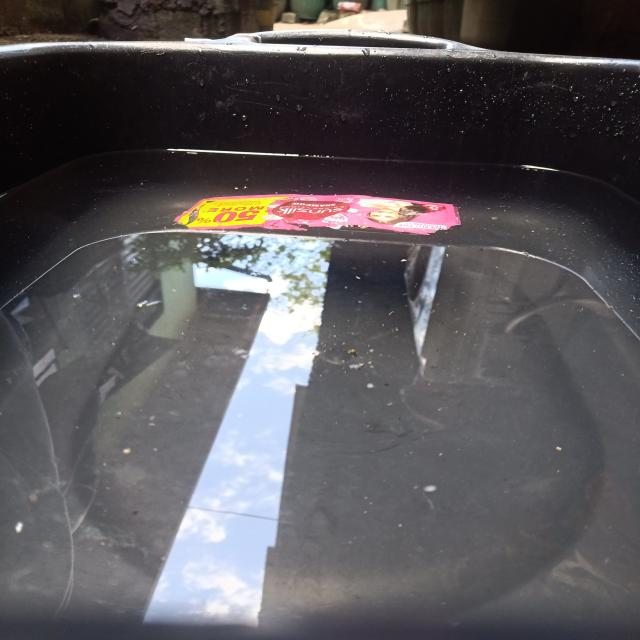Plastic Wrapper: (175, 193, 461, 235)
